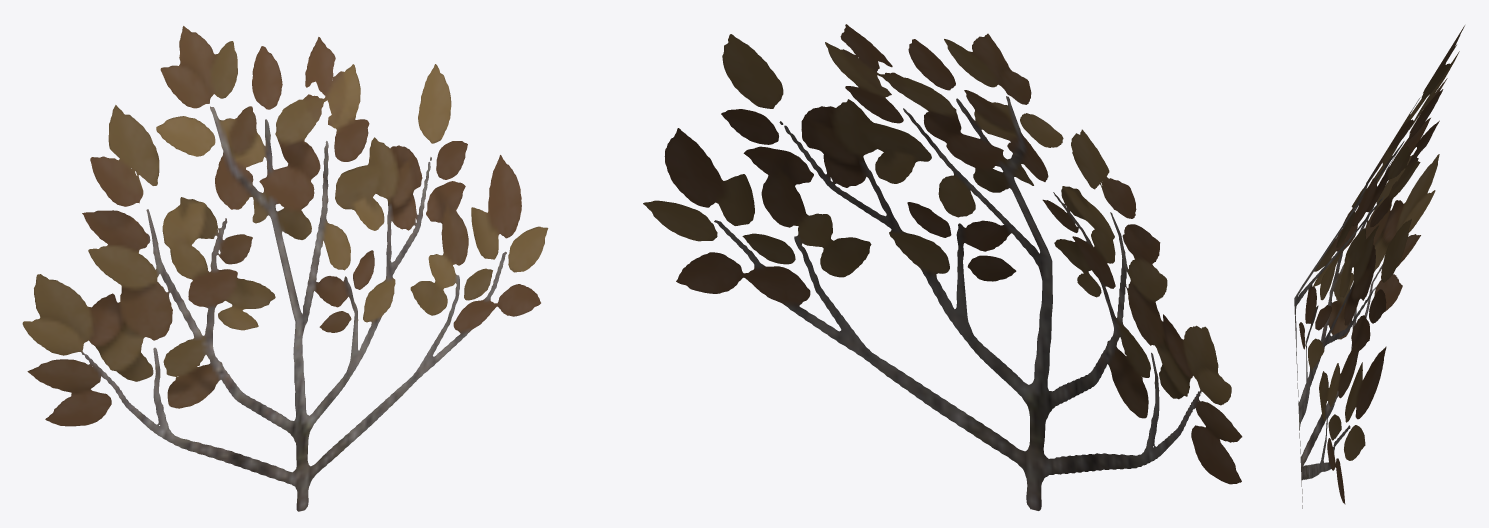
File: rama_arbusto_2.fbx
3 renders of one model, left to right at view 1: azimuth 30°, elevation 25°; view 2: azimuth 150°, elevation 25°; view 3: azimuth 270°, elevation 25°, orthographic. The views are drawn at different scales.
Parts seen in each view (by area): view 1: rama_arbusto_2; view 2: rama_arbusto_2; view 3: rama_arbusto_2.
Part boxes in pixels (box(x1,y1,x2,y2)): rama_arbusto_2: box(22, 26, 548, 511); rama_arbusto_2: box(643, 24, 1242, 510); rama_arbusto_2: box(1294, 25, 1464, 508).
Bounding box in the file's own units: 128 × 102 × 35.17.
